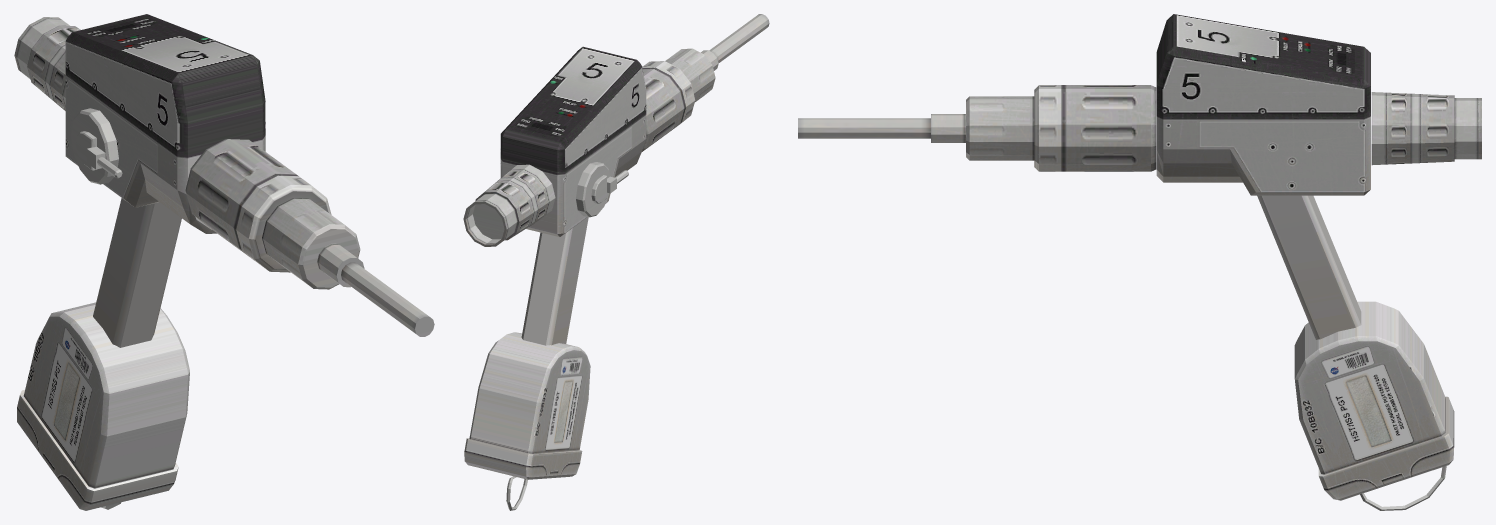
Rendered from Pistol Grip Tool.glb.
The picture shows the model from 3 angles, left to right: view 1: azimuth 30°, elevation 25°; view 2: azimuth 150°, elevation 25°; view 3: azimuth 270°, elevation 25°; orthographic projection. The views are drawn at different scales.
Visible parts, largest first — view 1: pistolgrip; view 2: pistolgrip; view 3: pistolgrip.
Part boxes in pixels (x1,y1,x2,y2): pistolgrip: (14, 14, 434, 510); pistolgrip: (463, 14, 769, 510); pistolgrip: (798, 14, 1481, 510).
Bounding box in the file's own units: 2.58 × 11.89 × 15.38.
1 material, 1 textured.
